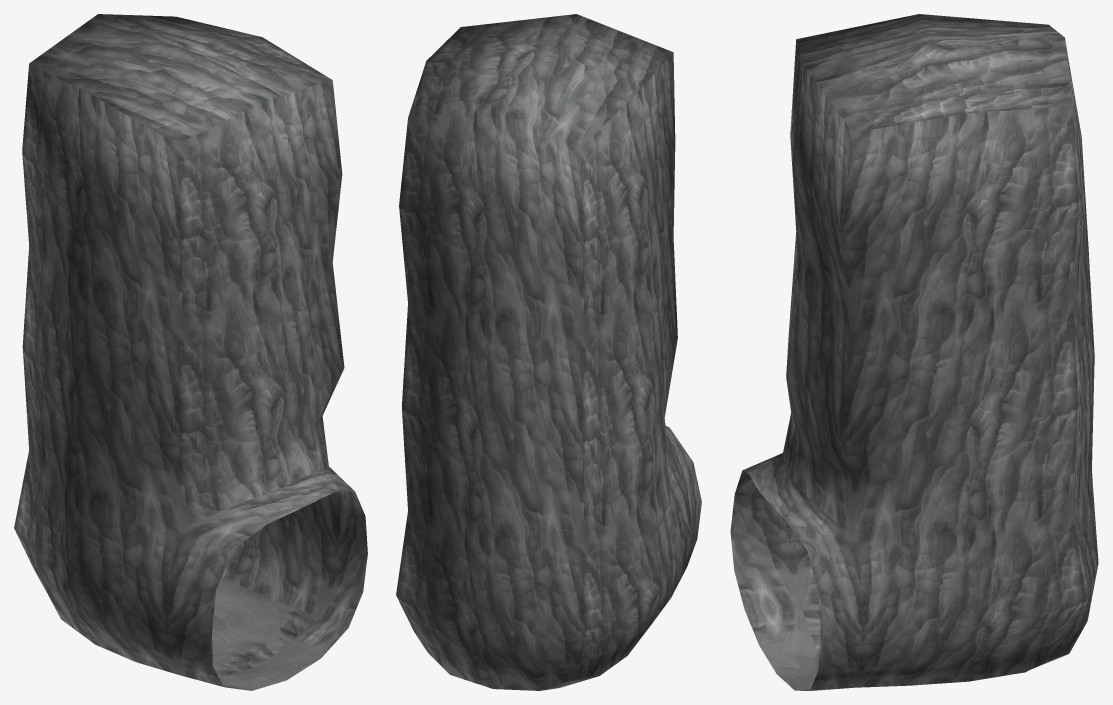
File: SWORDLIGHT20_PS-AREA01_02.fbx
The picture shows the model from 3 angles, left to right: view 1: azimuth 30°, elevation 25°; view 2: azimuth 150°, elevation 25°; view 3: azimuth 270°, elevation 25°; orthographic projection. The views are drawn at different scales.
Parts seen in each view (by area): view 1: SWORDLIGHT20_PS-AREA01_02; view 2: SWORDLIGHT20_PS-AREA01_02; view 3: SWORDLIGHT20_PS-AREA01_02.
Part boxes in pixels (left/top/right/bottom): SWORDLIGHT20_PS-AREA01_02: left=14, top=14, right=367, bottom=690; SWORDLIGHT20_PS-AREA01_02: left=396, top=14, right=701, bottom=690; SWORDLIGHT20_PS-AREA01_02: left=730, top=14, right=1098, bottom=690.
Bounding box in the file's own units: 99262 × 225363 × 119970.
Materials: 3 (3 with a texture image).
